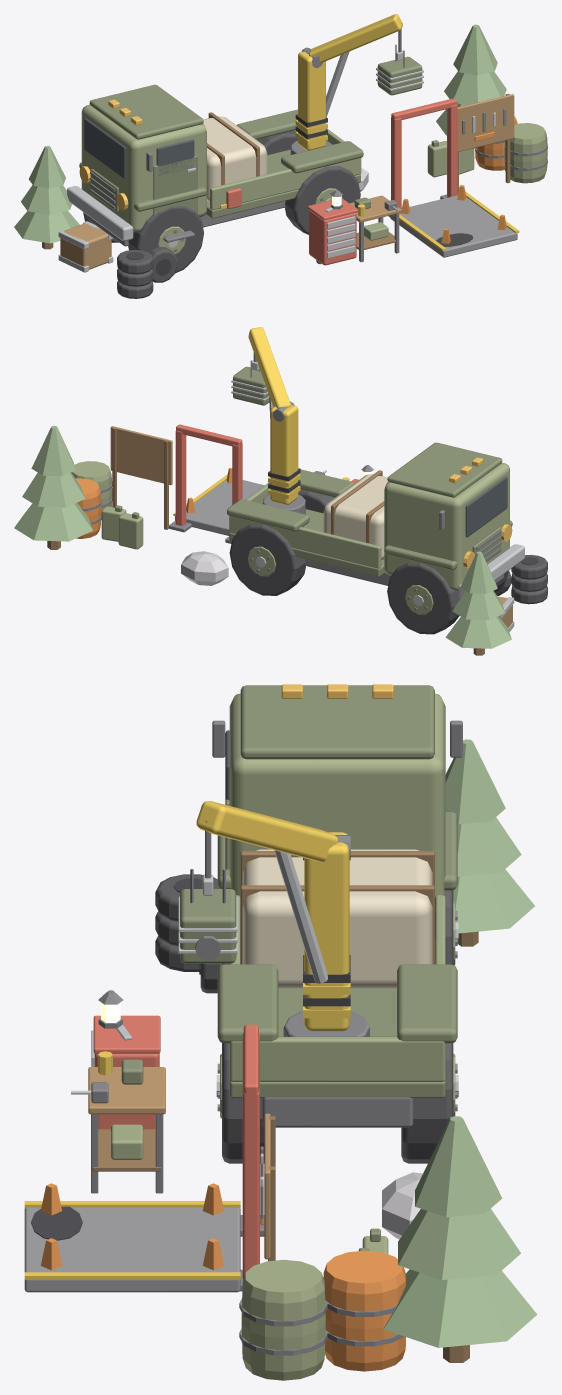
Rendered from mechanic_room.glb.
3 views of the same model, one above another, from view 1: azimuth 30°, elevation 25°; view 2: azimuth 150°, elevation 25°; view 3: azimuth 270°, elevation 25° (orthographic). The views are drawn at different scales.
Visible parts, largest first — view 1: MerchantShop; view 2: MerchantShop; view 3: MerchantShop.
Part boxes in pixels (x1,y1,x2,y2): MerchantShop: [14, 14, 547, 298]; MerchantShop: [14, 327, 547, 655]; MerchantShop: [24, 684, 537, 1380].
Bounding box in the file's own units: 10.45 × 4.43 × 4.75.
